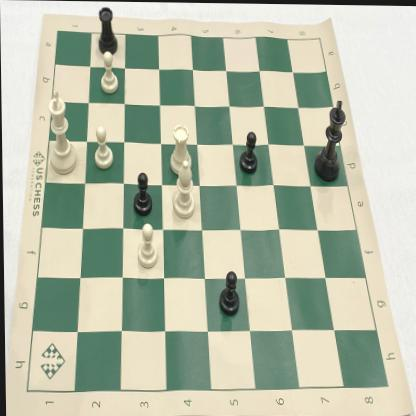black-king: (311, 95, 348, 182)
black-pawn: (217, 266, 241, 318), (130, 169, 154, 217), (238, 127, 258, 175)
black-rook: (94, 3, 119, 56)
white-bishop: (170, 158, 198, 221)
white-king: (45, 87, 81, 179)
white-pawn: (134, 221, 159, 270), (92, 123, 116, 172), (97, 49, 120, 97)
white-rook: (170, 121, 193, 177)
